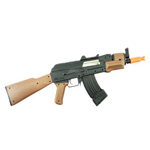rifle: (6, 51, 146, 116)
